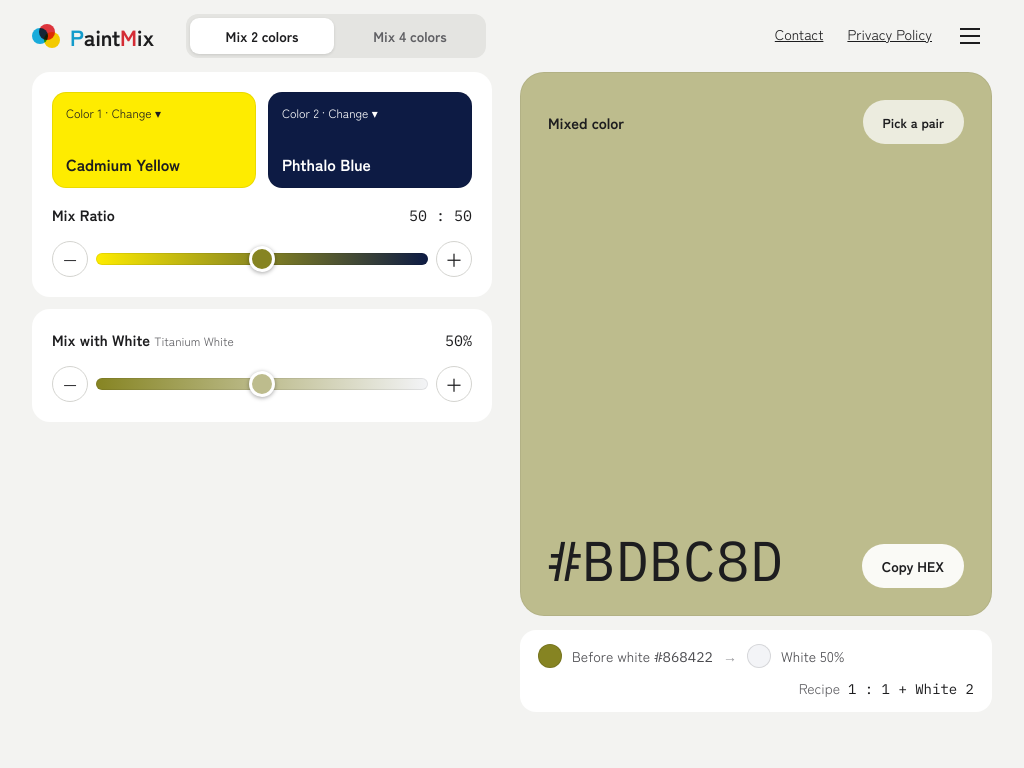
Scenario: two-color mixing › selects a paint from the picker
Click the button with aria-label "Select Color 1:". click: point(154, 140)
box: [52,92,256,188]
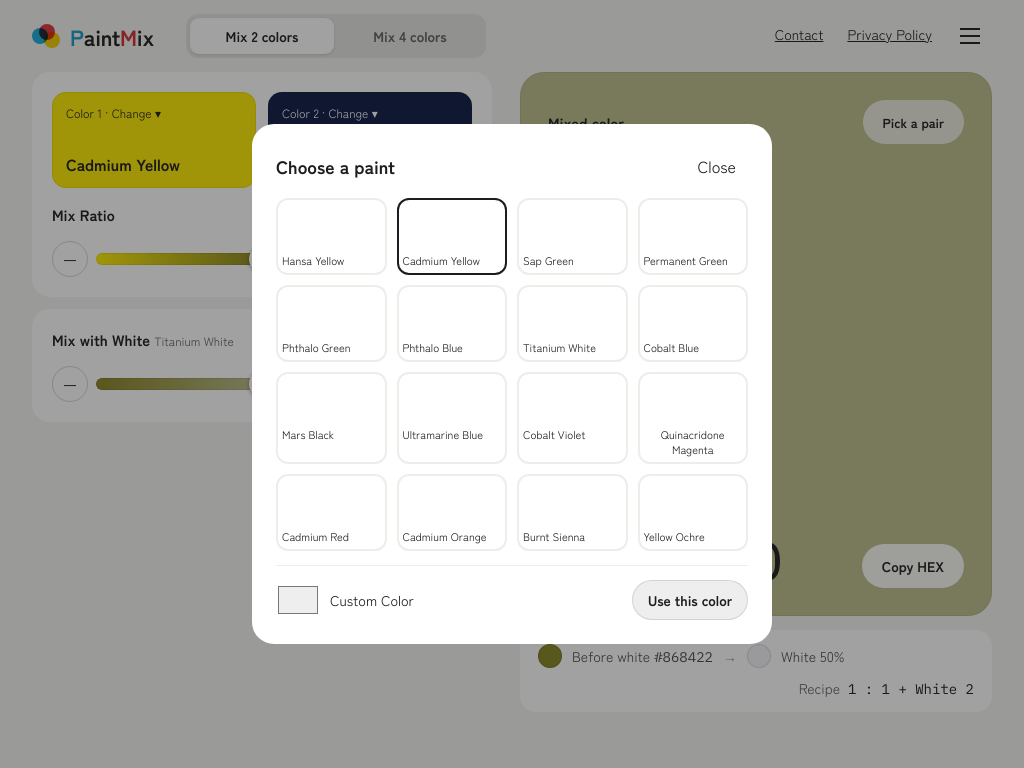
Click the button "Cadmium Red". click: point(331, 513)
box: [276,474,386,551]
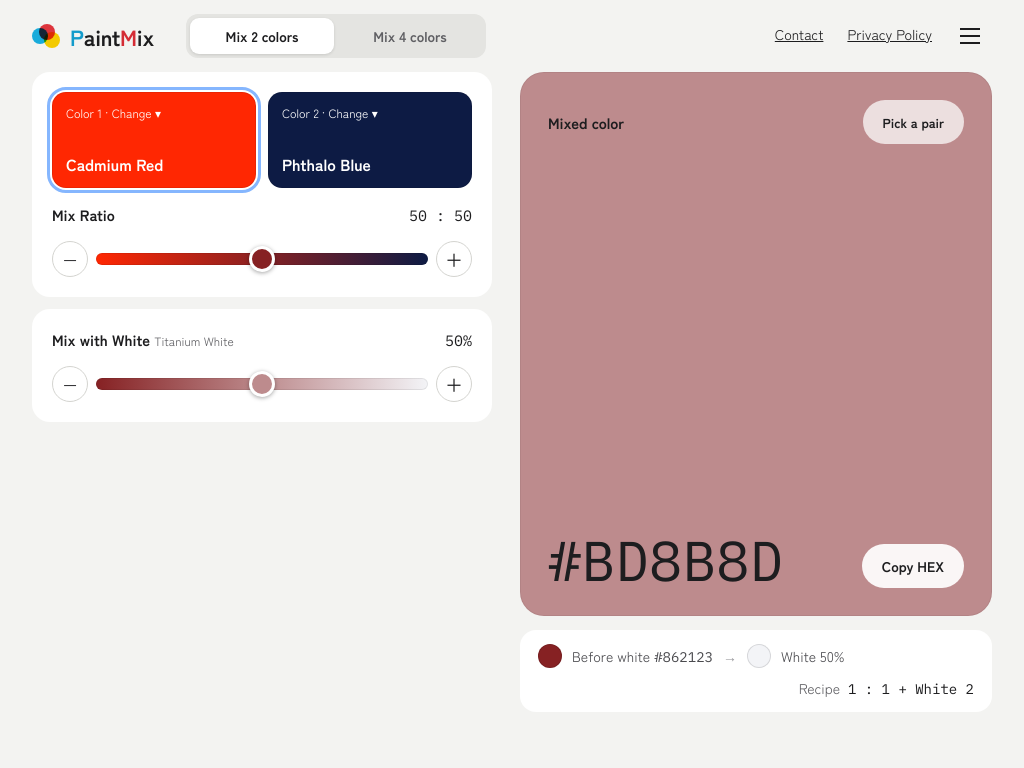
Expected: the dialog is gone
Expected: the button with aria-label "Select Color 1: Cadmium Red" is shown, [52,92,256,188]
